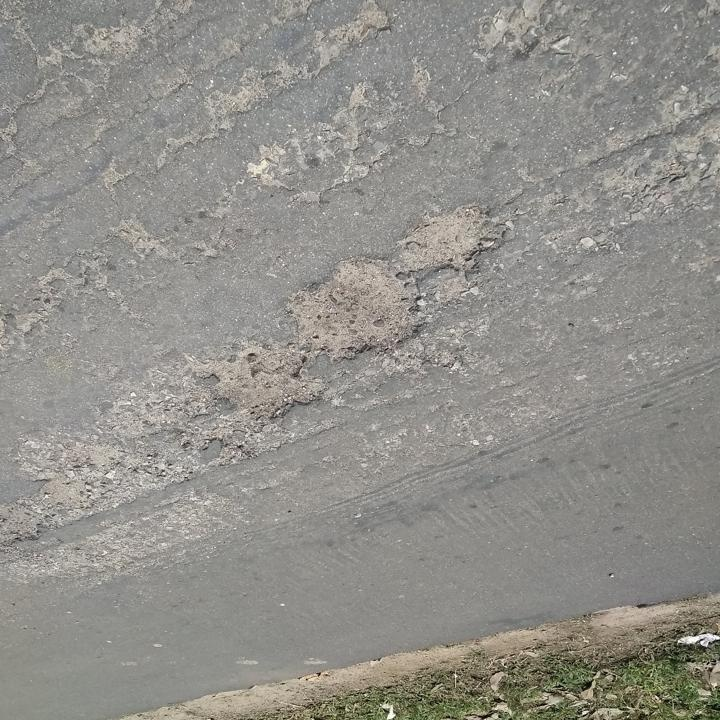pothole: (0, 441, 140, 553), (281, 256, 426, 362), (205, 340, 324, 428), (399, 198, 503, 278)
